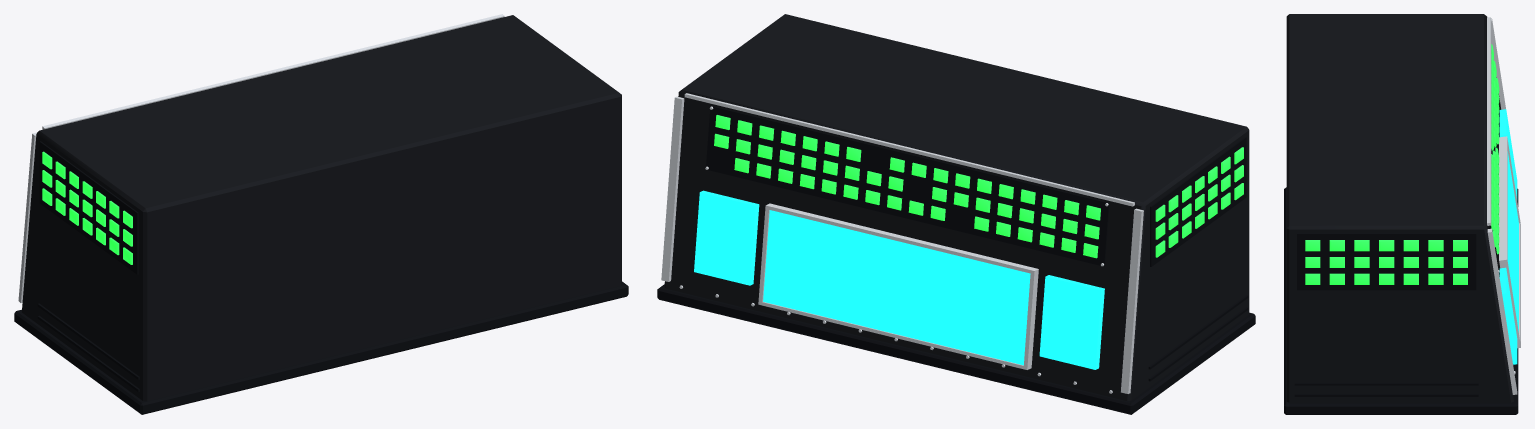
The model's file is deck_led_cyan.glb.
3 renders of one model, left to right at view 1: azimuth 30°, elevation 25°; view 2: azimuth 150°, elevation 25°; view 3: azimuth 270°, elevation 25°, orthographic. The views are drawn at different scales.
Visible parts, largest first — view 1: deck_led_cyan_deco_body, deck_led_cyan_deco_trim, deck_led_cyan_deco_led, deck_led_cyan_chrome; view 2: deck_led_cyan_deco_body, deck_led_cyan_deco_neon, deck_led_cyan_deco_trim, deck_led_cyan_deco_led, deck_led_cyan_chrome; view 3: deck_led_cyan_deco_body, deck_led_cyan_deco_trim, deck_led_cyan_deco_led, deck_led_cyan_chrome, deck_led_cyan_deco_neon.
Part boxes in pixels (x1,y1,x2,y2): deck_led_cyan_deco_body: (22, 15, 621, 401); deck_led_cyan_deco_trim: (14, 141, 628, 414); deck_led_cyan_deco_led: (42, 151, 132, 264); deck_led_cyan_chrome: (18, 14, 504, 302); deck_led_cyan_deco_body: (664, 14, 1249, 401); deck_led_cyan_deco_neon: (694, 190, 1104, 369); deck_led_cyan_deco_trim: (657, 105, 1255, 414); deck_led_cyan_deco_led: (714, 115, 1243, 258); deck_led_cyan_chrome: (661, 93, 1143, 393); deck_led_cyan_deco_body: (1286, 14, 1513, 402); deck_led_cyan_deco_trim: (1284, 143, 1518, 414); deck_led_cyan_deco_led: (1305, 44, 1499, 284); deck_led_cyan_chrome: (1487, 17, 1520, 394); deck_led_cyan_deco_neon: (1499, 109, 1518, 364).
Size of the model in its own units: 2.14 by 0.854 by 0.9812.
